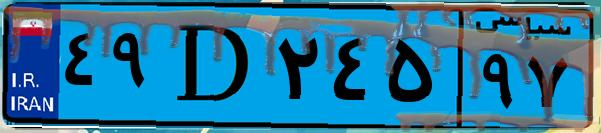2: (270, 28, 330, 110)
4: (330, 28, 385, 110), (57, 26, 110, 100)
5: (385, 28, 445, 110)
7: (525, 38, 570, 115)
9: (475, 38, 525, 113), (110, 28, 158, 98)
D: (158, 12, 270, 120)
